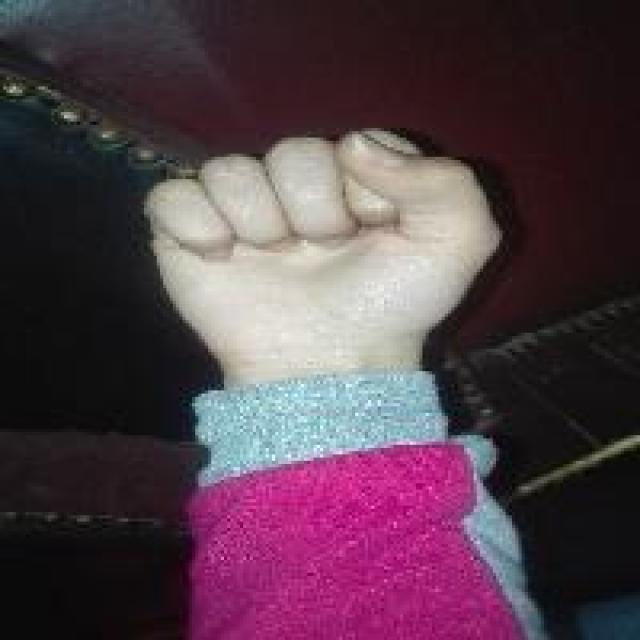S: (134, 124, 509, 366)
